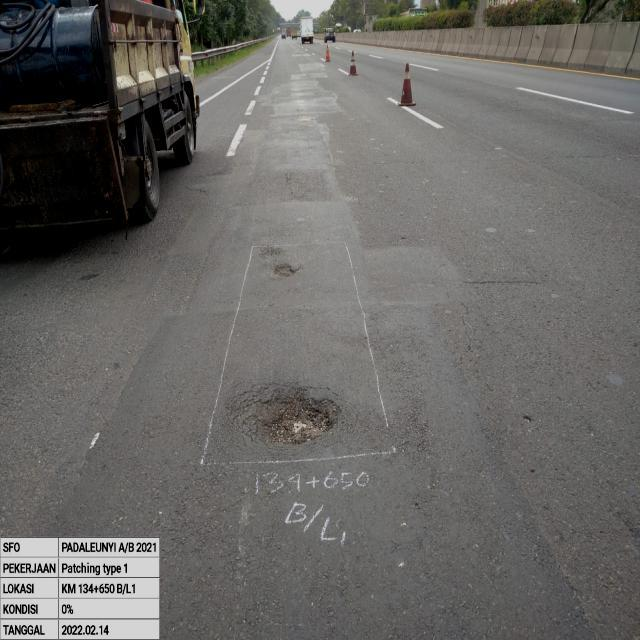Buraco: (249, 386, 344, 448), (270, 262, 306, 279)
